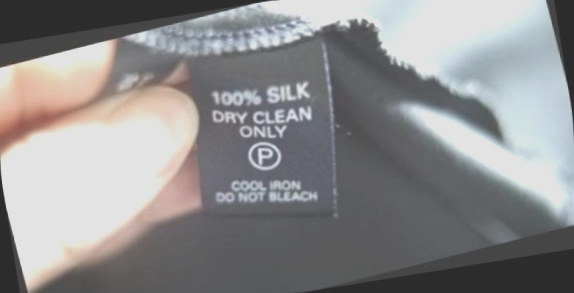dry_clean_any_solvent_except_trichloroethylene: (242, 133, 289, 177)
